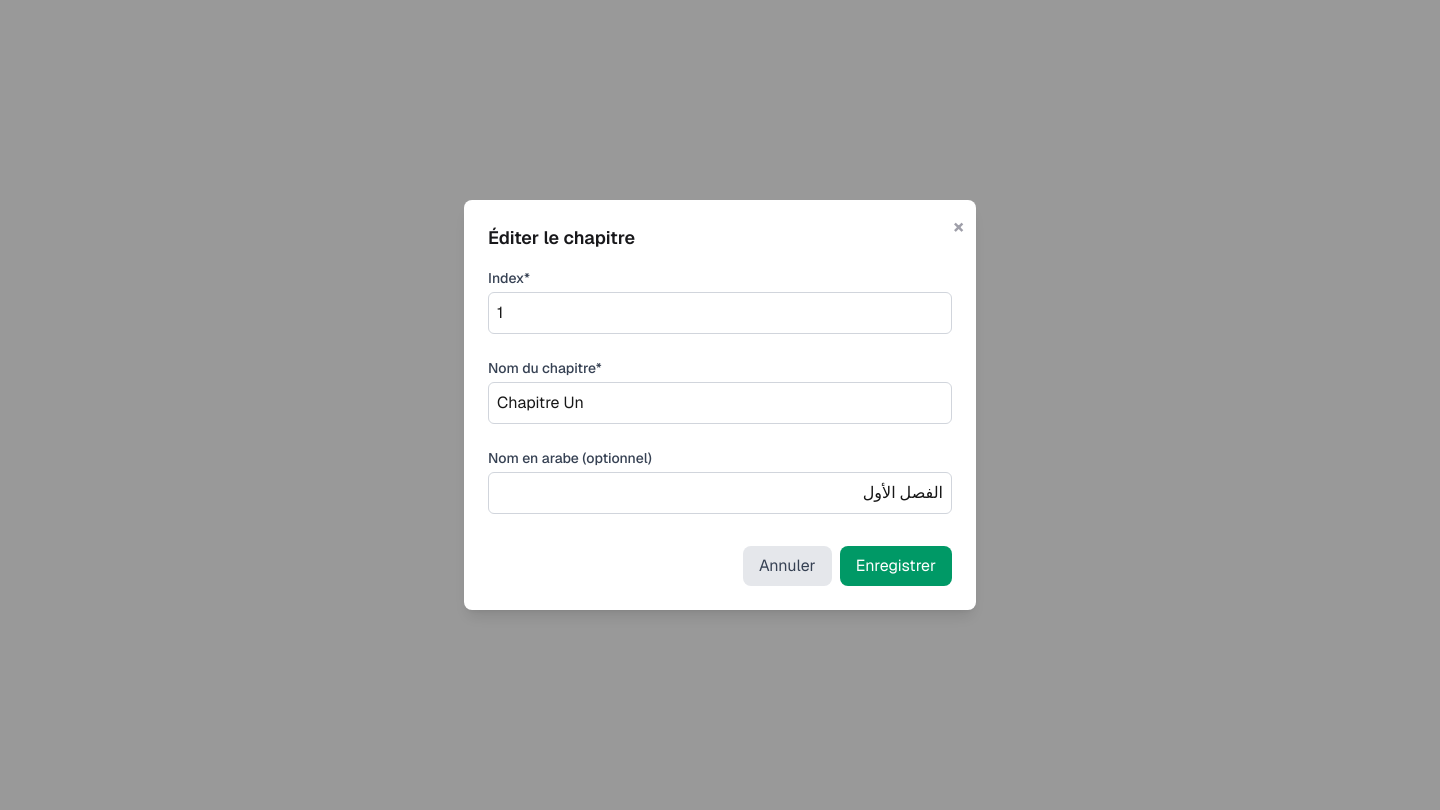
EditItemFormDialog › shows 'En cours...' on the button during submission
Type "abc" into the field labelled "Nom du chapitre*" at (720, 403), box x1=488 y1=382 x2=952 y2=424
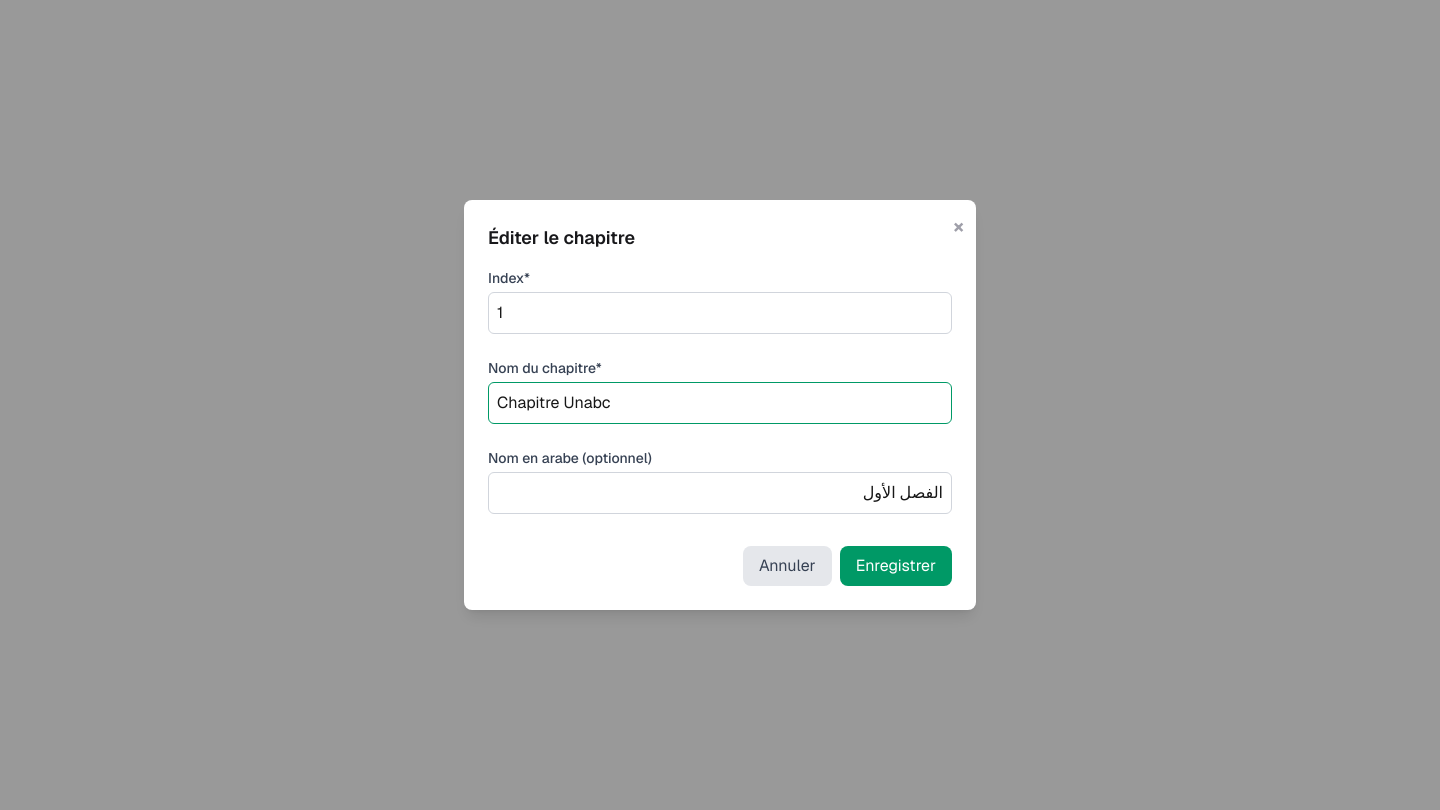
Click the button "Enregistrer" at (896, 566), box x1=840 y1=546 x2=952 y2=586
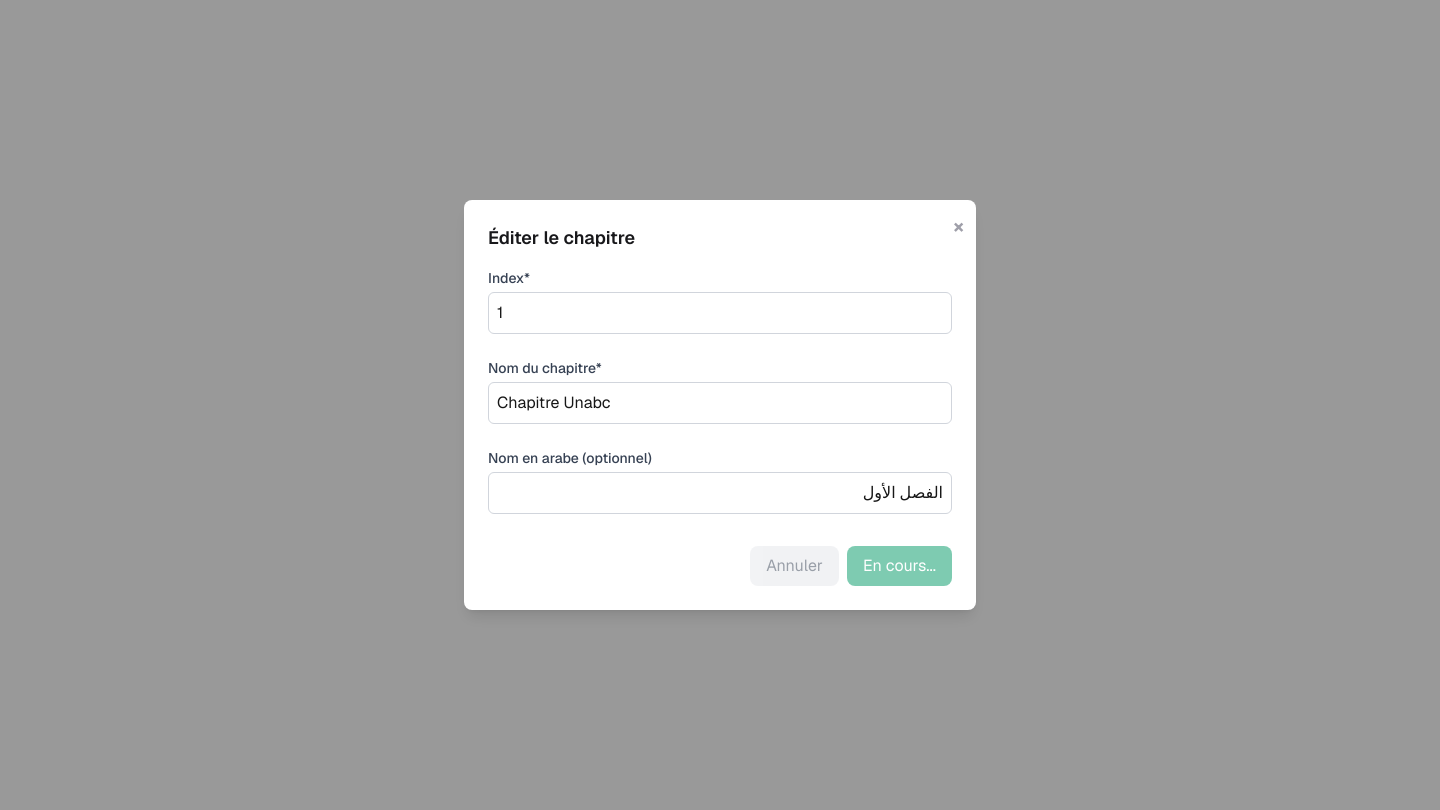
expect the button "En cours..." is disabled: met, box x1=847 y1=546 x2=952 y2=586
